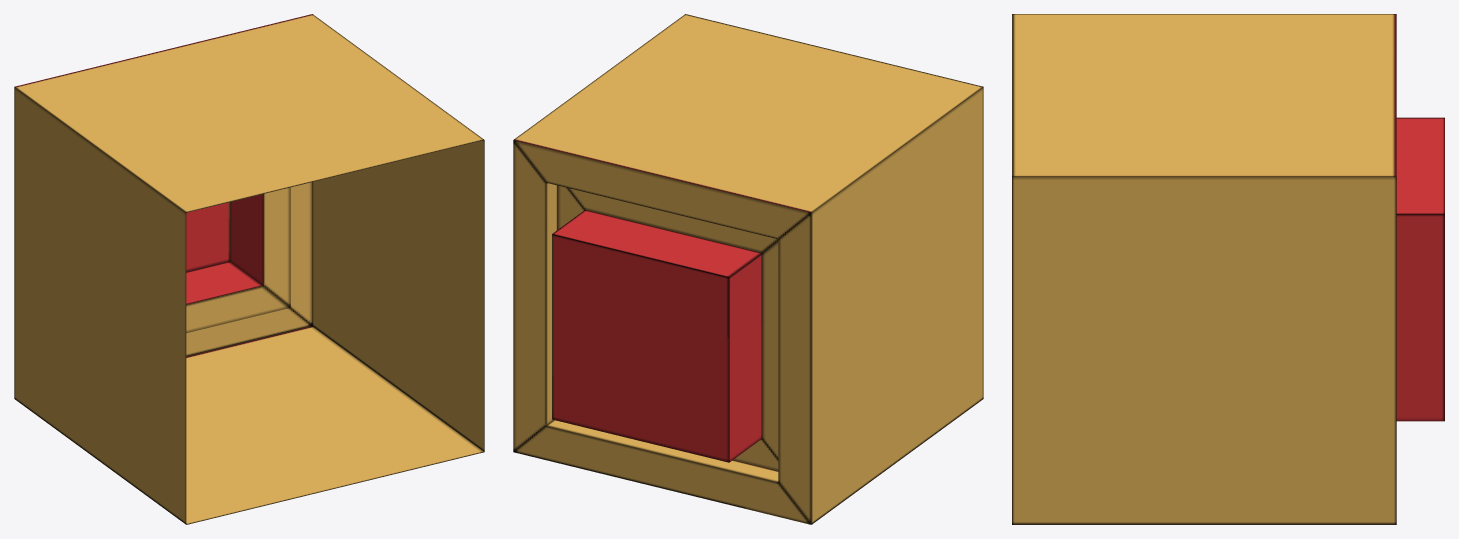
File: Pedestal_Boton.glb
3 views of the same model, side by side, from view 1: azimuth 30°, elevation 25°; view 2: azimuth 150°, elevation 25°; view 3: azimuth 270°, elevation 25° (orthographic). The views are drawn at different scales.
Visible parts, largest first — view 1: Boton; view 2: Boton; view 3: Boton.
Part boxes in pixels (x1=…): Boton: x1=14, y1=14, x2=484, y2=524; Boton: x1=513, y1=14, x2=983, y2=524; Boton: x1=1012, y1=14, x2=1444, y2=524.
Size of the model in its own units: 0.1963 by 0.1963 by 0.221.
1 material, 1 textured.
